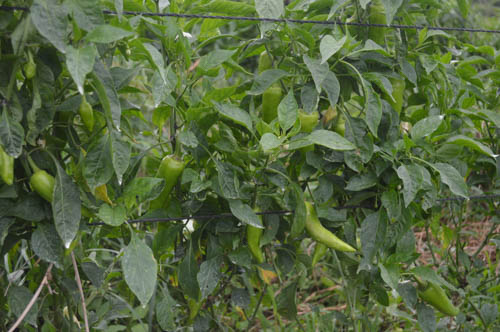ChiliPepper: (30, 173, 91, 219), (302, 207, 355, 254), (149, 162, 184, 215), (421, 283, 459, 317), (293, 113, 319, 159), (245, 213, 264, 262), (262, 86, 279, 120)
